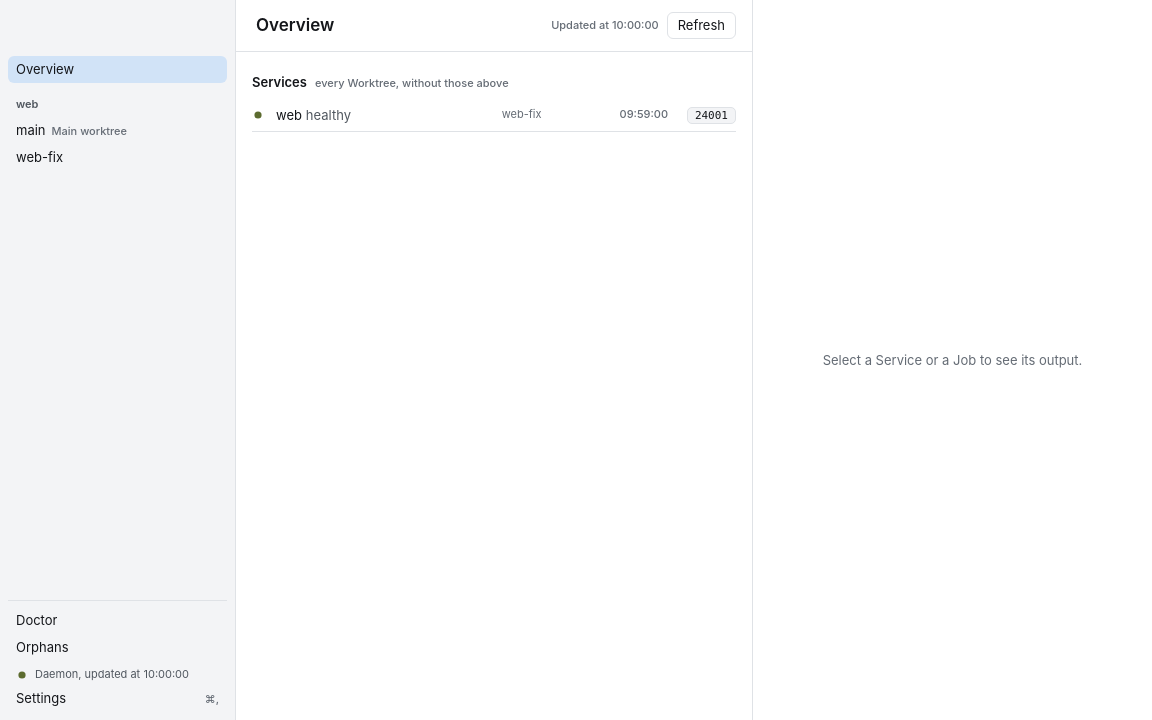
Scenario: the Worktree release sheet › draws no red line when the release stops no process
The width and height of the screenshot is (1152, 720).
Click the button "web-fix": (118, 157) x1=8 y1=144 x2=227 y2=170
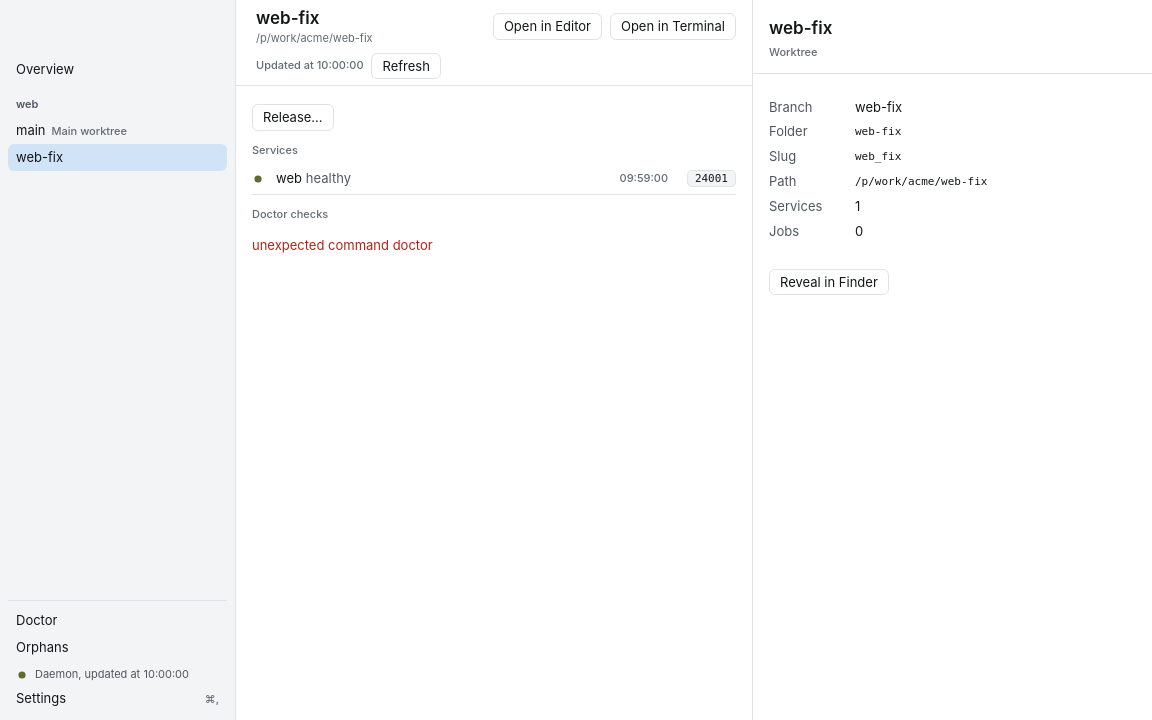
Click the button "Release…": (293, 118) x1=252 y1=104 x2=334 y2=131
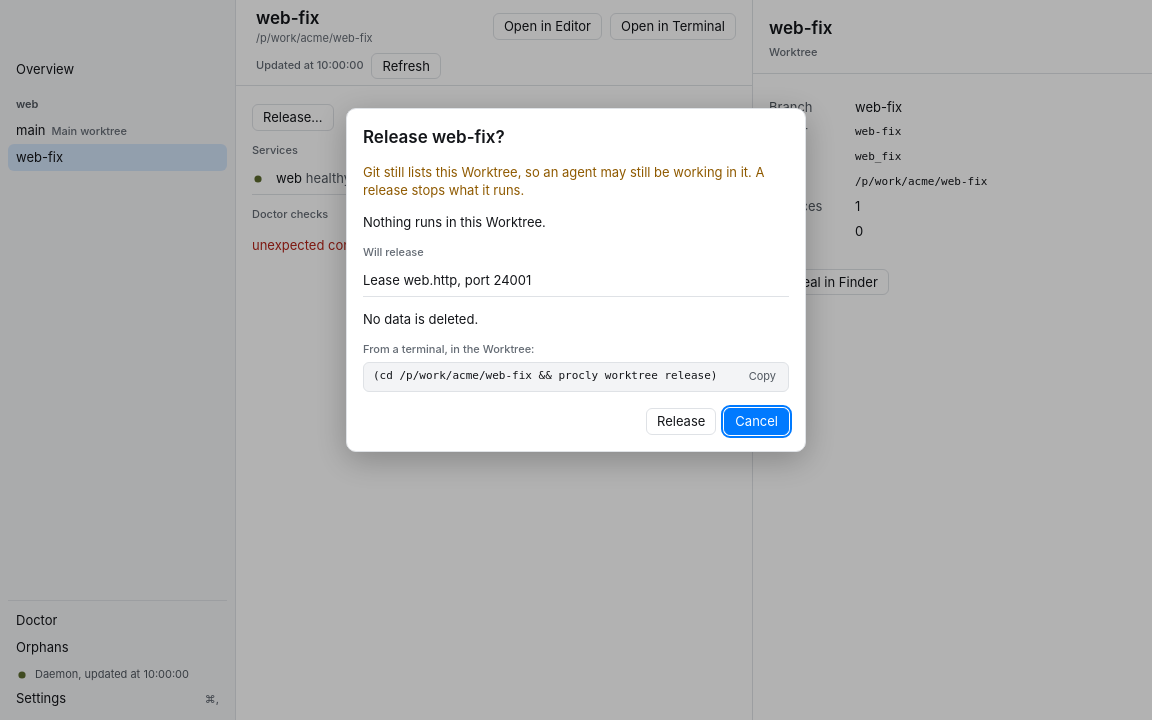
Expected: the heading "Will release" is shown, x1=363 y1=245 x2=424 y2=259
